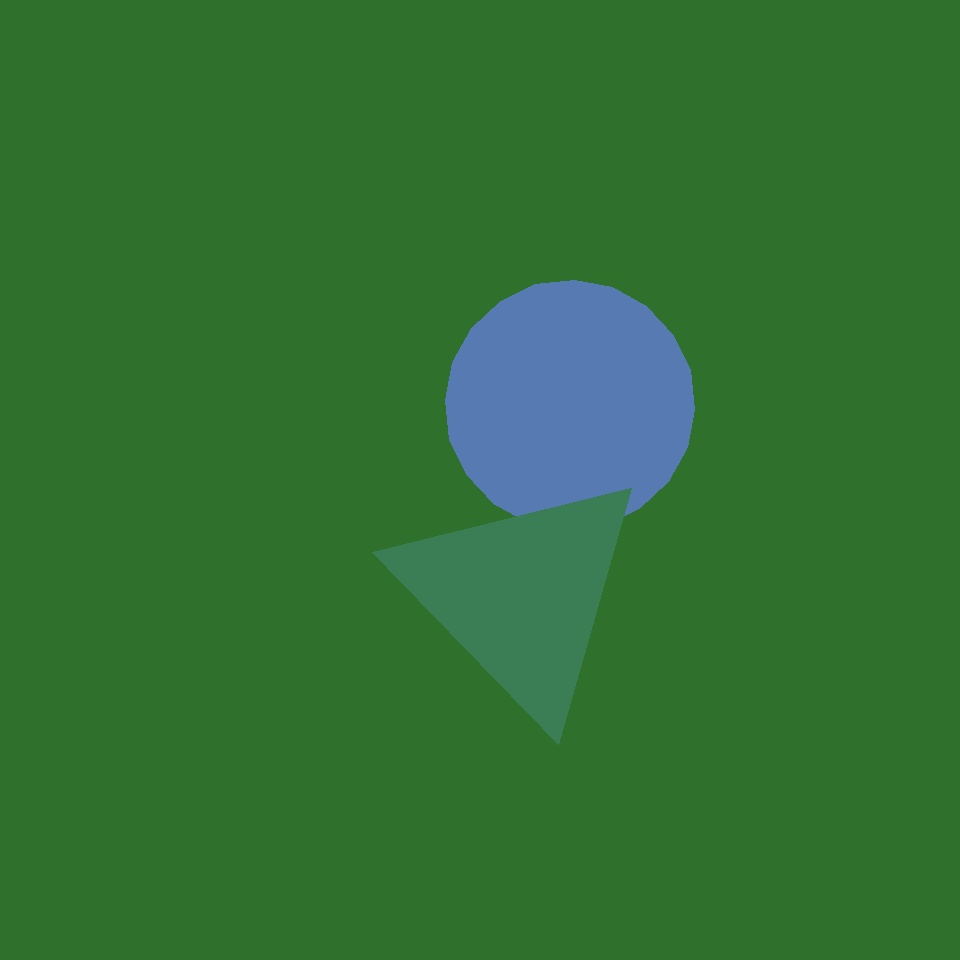circle: (392, 467, 650, 723), (509, 325, 643, 462), (688, 401, 802, 501)
triangle: (446, 280, 694, 530)
